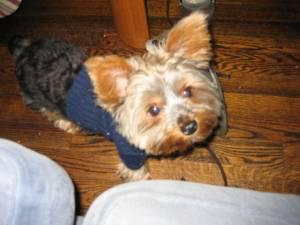dog: (84, 10, 219, 152)
